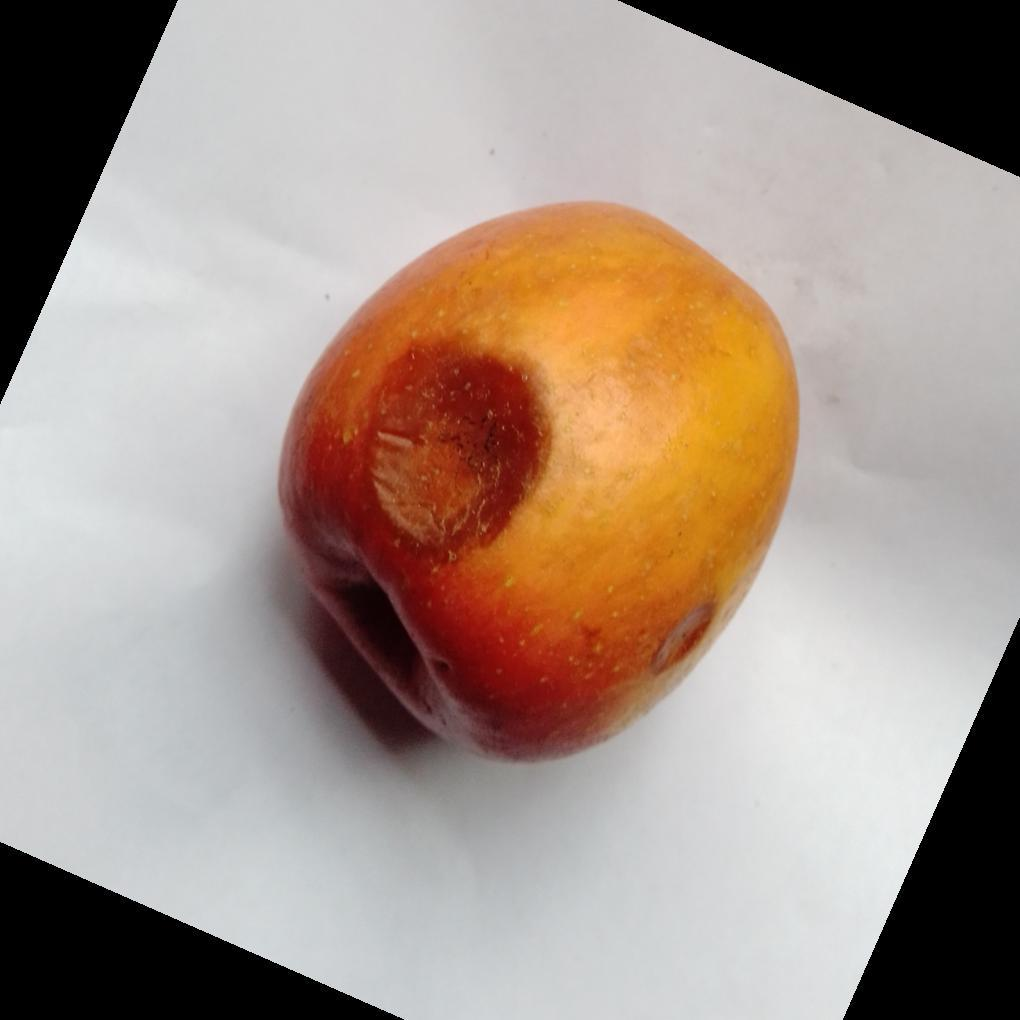FreshOrange: (278, 202, 800, 766)
